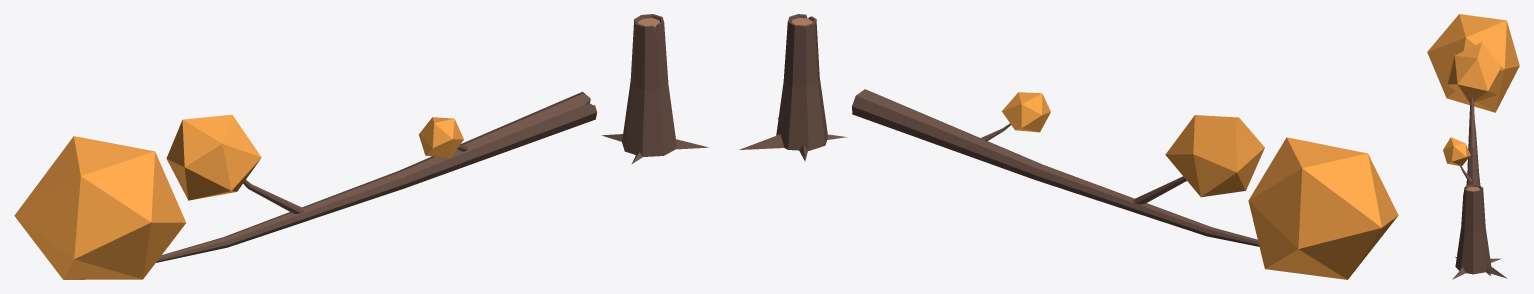
Rendered from AutumnFallenTree_02.fbx.
3 renders of one model, left to right at view 1: azimuth 30°, elevation 25°; view 2: azimuth 150°, elevation 25°; view 3: azimuth 270°, elevation 25°, orthographic. The views are drawn at different scales.
Visible parts, largest first — view 1: AutumnFallenTree_02; view 2: AutumnFallenTree_02; view 3: AutumnFallenTree_02.
Part boxes in pixels (bbox=[...]): AutumnFallenTree_02: bbox=[14, 14, 708, 279]; AutumnFallenTree_02: bbox=[739, 14, 1398, 279]; AutumnFallenTree_02: bbox=[1427, 14, 1519, 279].
Bounding box in the file's own units: 1097 × 210 × 211.
